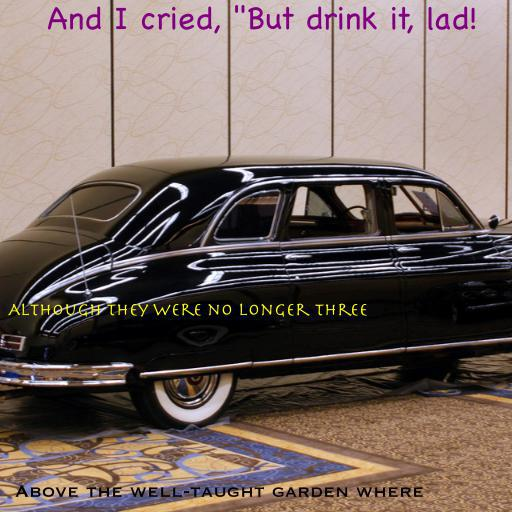Chalkboard: (47, 4, 477, 34)
Copperplate: (14, 485, 424, 498)
Herculanum: (8, 303, 368, 317)
